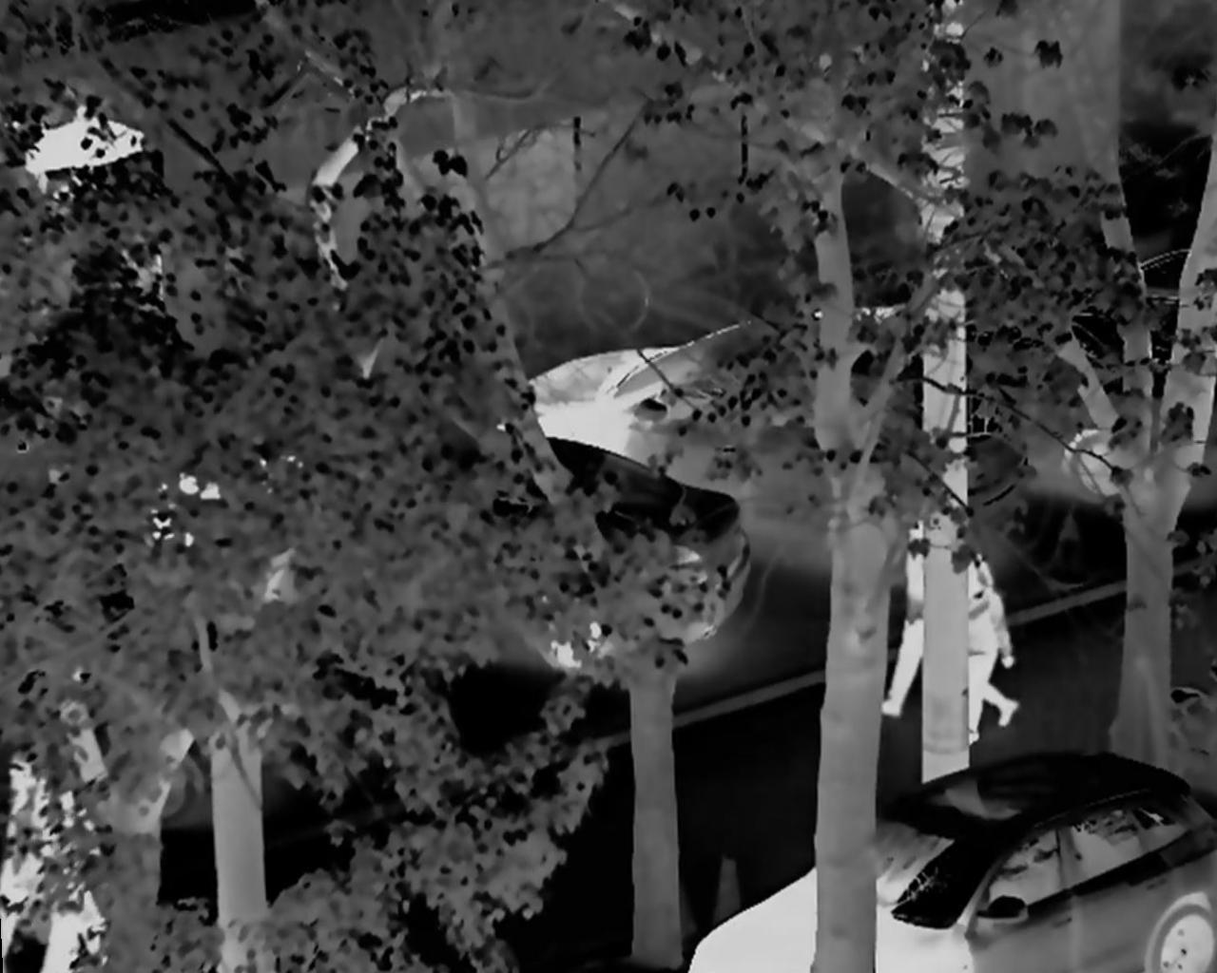person: (8, 747, 97, 969), (943, 557, 1023, 754), (878, 509, 943, 734)
